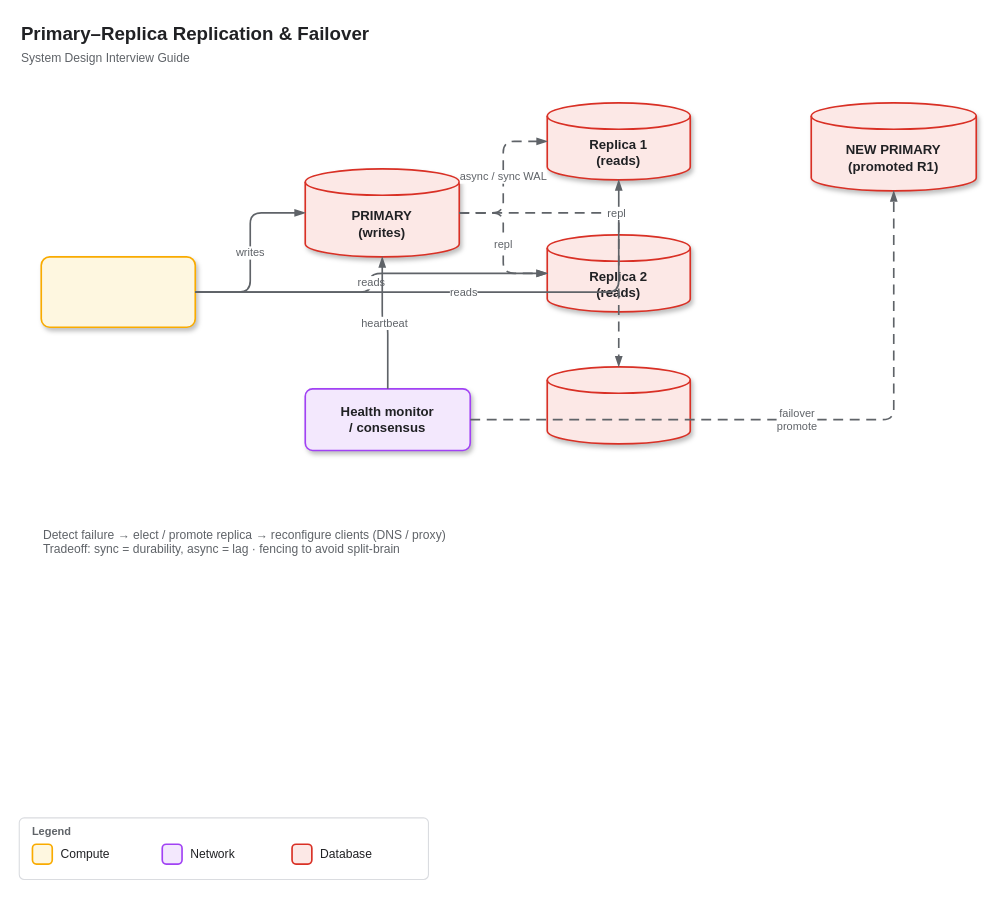
Some shapes in this 1003 by 899 pixel diagram are drawn without their labels. The shapes that lost their labels are listed below. From the top down, each one's centre as x and y in pixels, then its label:
At (119,293): "App / Proxy (PgBouncer)".
At (619,406): "Replica 3 (standby)".
